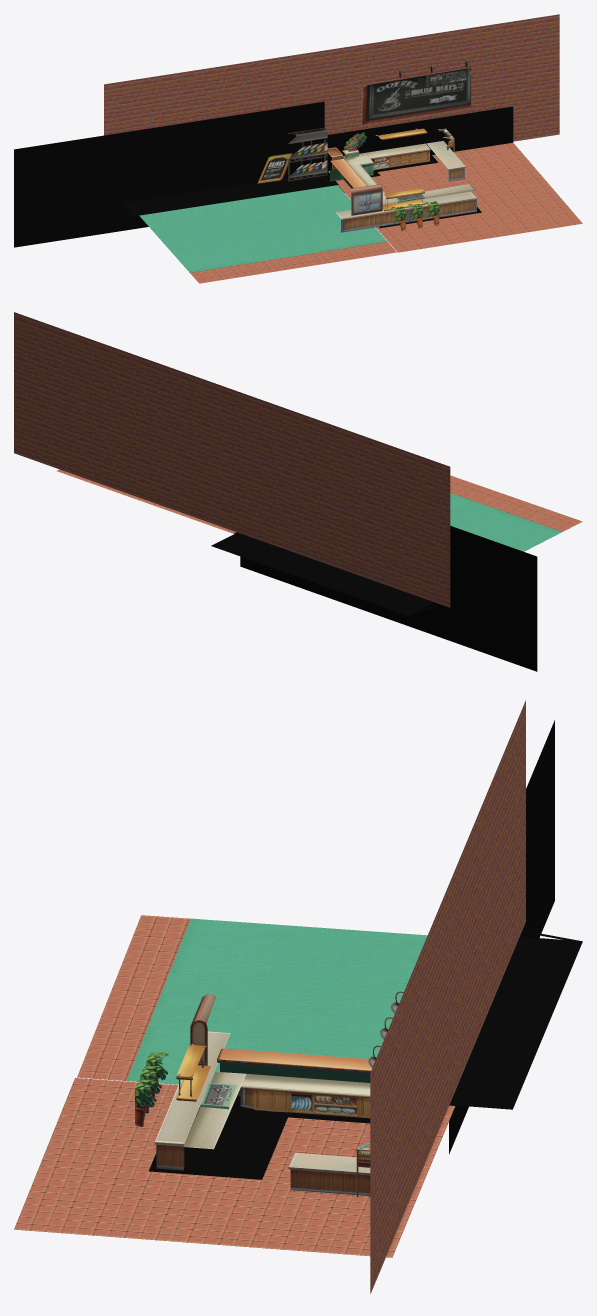
3 views of the same model, one above another, from view 1: azimuth 30°, elevation 25°; view 2: azimuth 150°, elevation 25°; view 3: azimuth 270°, elevation 25° (orthographic). The views are drawn at different scales.
Visible parts, largest first — view 1: C2_yinying, C2_wall, C2_Carpet, C2_floor2, C2_1, C2_sundries, C2_floor1, C2_replace; view 2: C2_wall, C2_yinying, C2_Carpet, C2_floor1, C2_floor2; view 3: C2_floor2, C2_wall, C2_Carpet, C2_yinying, C2_1, C2_floor1, C2_sundries.
Part boxes in pixels (x1,y1,x2,y2): C2_yinying: (14, 101, 513, 247); C2_wall: (104, 14, 559, 160); C2_Carpet: (139, 185, 387, 272); C2_floor2: (328, 143, 582, 252); C2_1: (327, 128, 477, 232); C2_sundries: (257, 61, 471, 230); C2_floor1: (140, 217, 396, 283); C2_replace: (342, 132, 366, 158); C2_wall: (14, 312, 450, 607); C2_yinying: (211, 526, 537, 671); C2_Carpet: (450, 493, 561, 551); C2_floor1: (450, 475, 582, 544); C2_floor2: (57, 469, 236, 533); C2_floor2: (14, 1078, 455, 1257); C2_wall: (370, 700, 525, 1293); C2_Carpet: (127, 918, 427, 1084); C2_yinying: (149, 720, 582, 1179); C2_1: (154, 994, 372, 1197); C2_floor1: (77, 915, 190, 1084); C2_sundries: (135, 991, 403, 1126).
Bounding box in the file's own units: 932 × 268 × 502.
